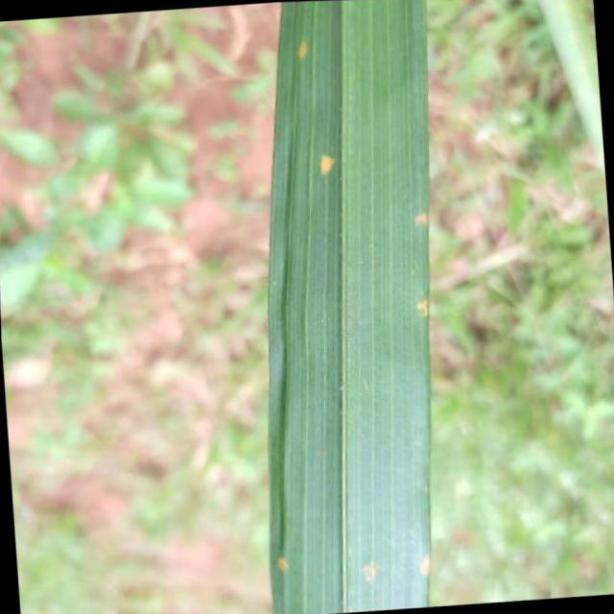Kalium: (262, 2, 435, 609)
